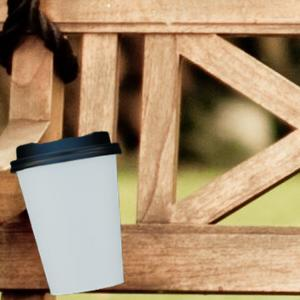cup: (11, 130, 122, 297)
